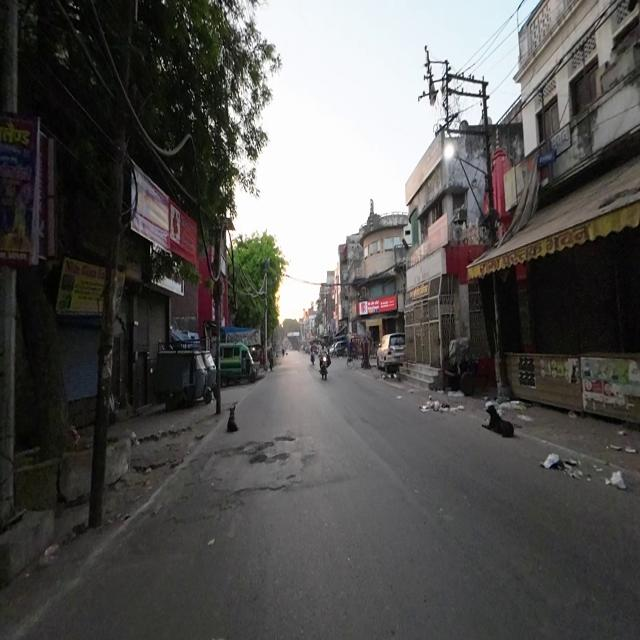Garbage: (542, 448, 628, 493), (418, 394, 466, 420), (504, 391, 527, 418)
